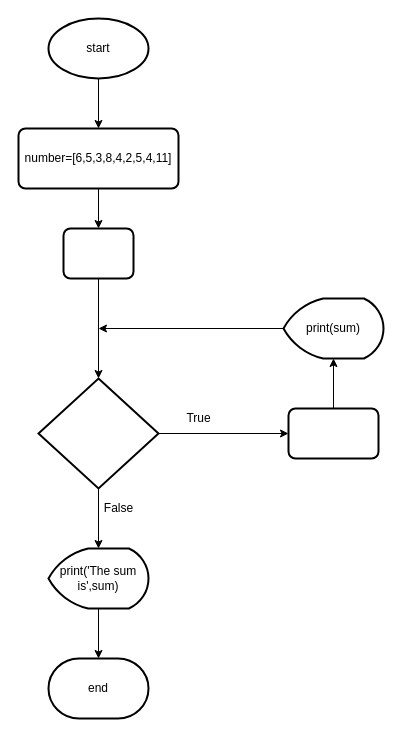
Some shapes in this 401 by 736 pixel diagram are drawn without their labels. The centre of each missing label's shape, as x and y in pixels:
"for val in number" goes at [98,433].
"sum += val" goes at [333,433].
"sum=0" goes at [98,253].
